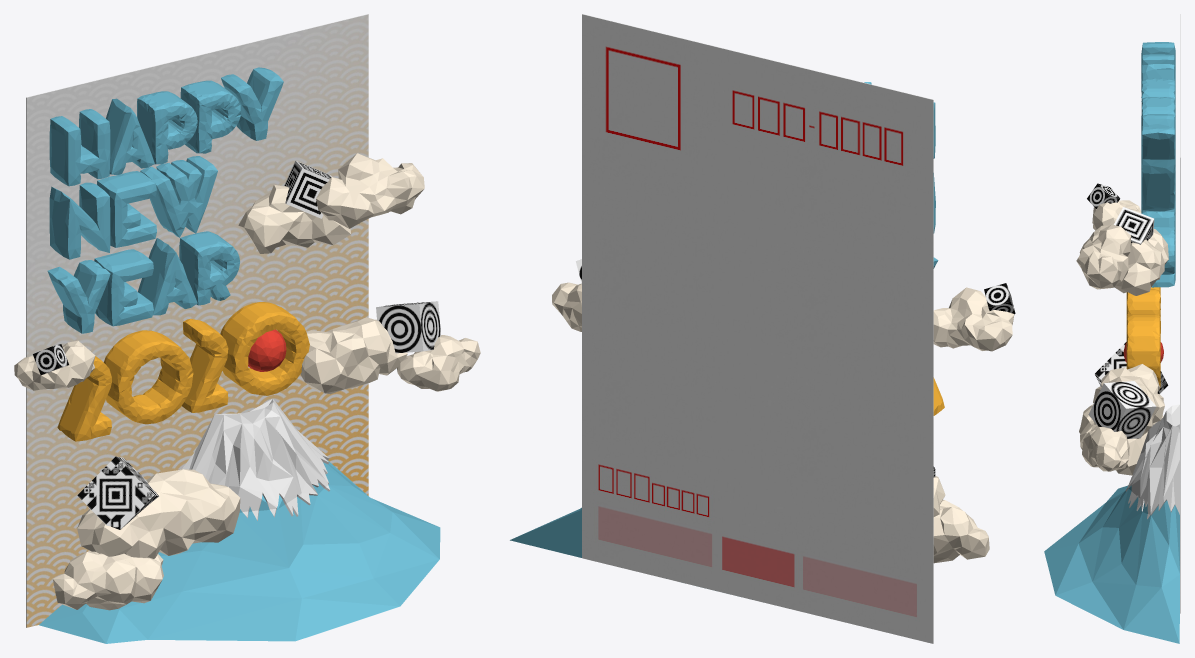
Rendered from hagaki.glb.
3 renders of one model, left to right at view 1: azimuth 30°, elevation 25°; view 2: azimuth 150°, elevation 25°; view 3: azimuth 270°, elevation 25°, orthographic. The views are drawn at different scales.
Visible parts, largest first — view 1: Plane, base, snow, Cube.002, Curve.013, Cube, Cube.008, Curve.015, Cube.006, Cube.007, Curve.007, Curve (+19 smaller); view 2: Plane, Cube.010, Cube.006, base, Cube.001; view 3: base, snow, Cube.004, Cube.008, Cube.007, Curve.004, Curve.015, Cube.001, Cube, Curve.007, Cube.005, Curve.014 (+12 smaller).
Part boxes in pixels (x1,y1,x2,y2): Plane: (26, 14, 368, 627); base: (39, 460, 440, 643); snow: (182, 398, 329, 520); Cube.002: (77, 469, 240, 558); Curve.013: (104, 330, 193, 424); Cube: (300, 317, 407, 394); Cube.008: (316, 153, 424, 228); Curve.015: (220, 302, 309, 395); Cube.006: (53, 550, 163, 610); Cube.007: (238, 177, 360, 253); Curve.007: (140, 156, 217, 237); Curve: (49, 109, 110, 186); Plane: (582, 14, 933, 643); Cube.010: (933, 287, 1014, 351); Cube.006: (933, 500, 989, 563); base: (510, 507, 581, 557); Cube.001: (552, 282, 581, 331); base: (1044, 485, 1179, 643); snow: (1125, 404, 1179, 519); Cube.004: (1088, 381, 1156, 438); Cube.008: (1076, 224, 1131, 289); Cube.007: (1114, 229, 1168, 295); Curve.004: (1141, 114, 1175, 173); Curve.015: (1126, 314, 1160, 388); Cube.001: (1082, 424, 1129, 471); Cube: (1099, 364, 1164, 438); Curve.007: (1141, 163, 1175, 211); Cube.005: (1113, 207, 1154, 244); Curve.014: (1126, 289, 1160, 333).
Bounding box in the file's own units: 0.1335 × 0.1486 × 0.0402.
Materials: 8 (2 with a texture image).
